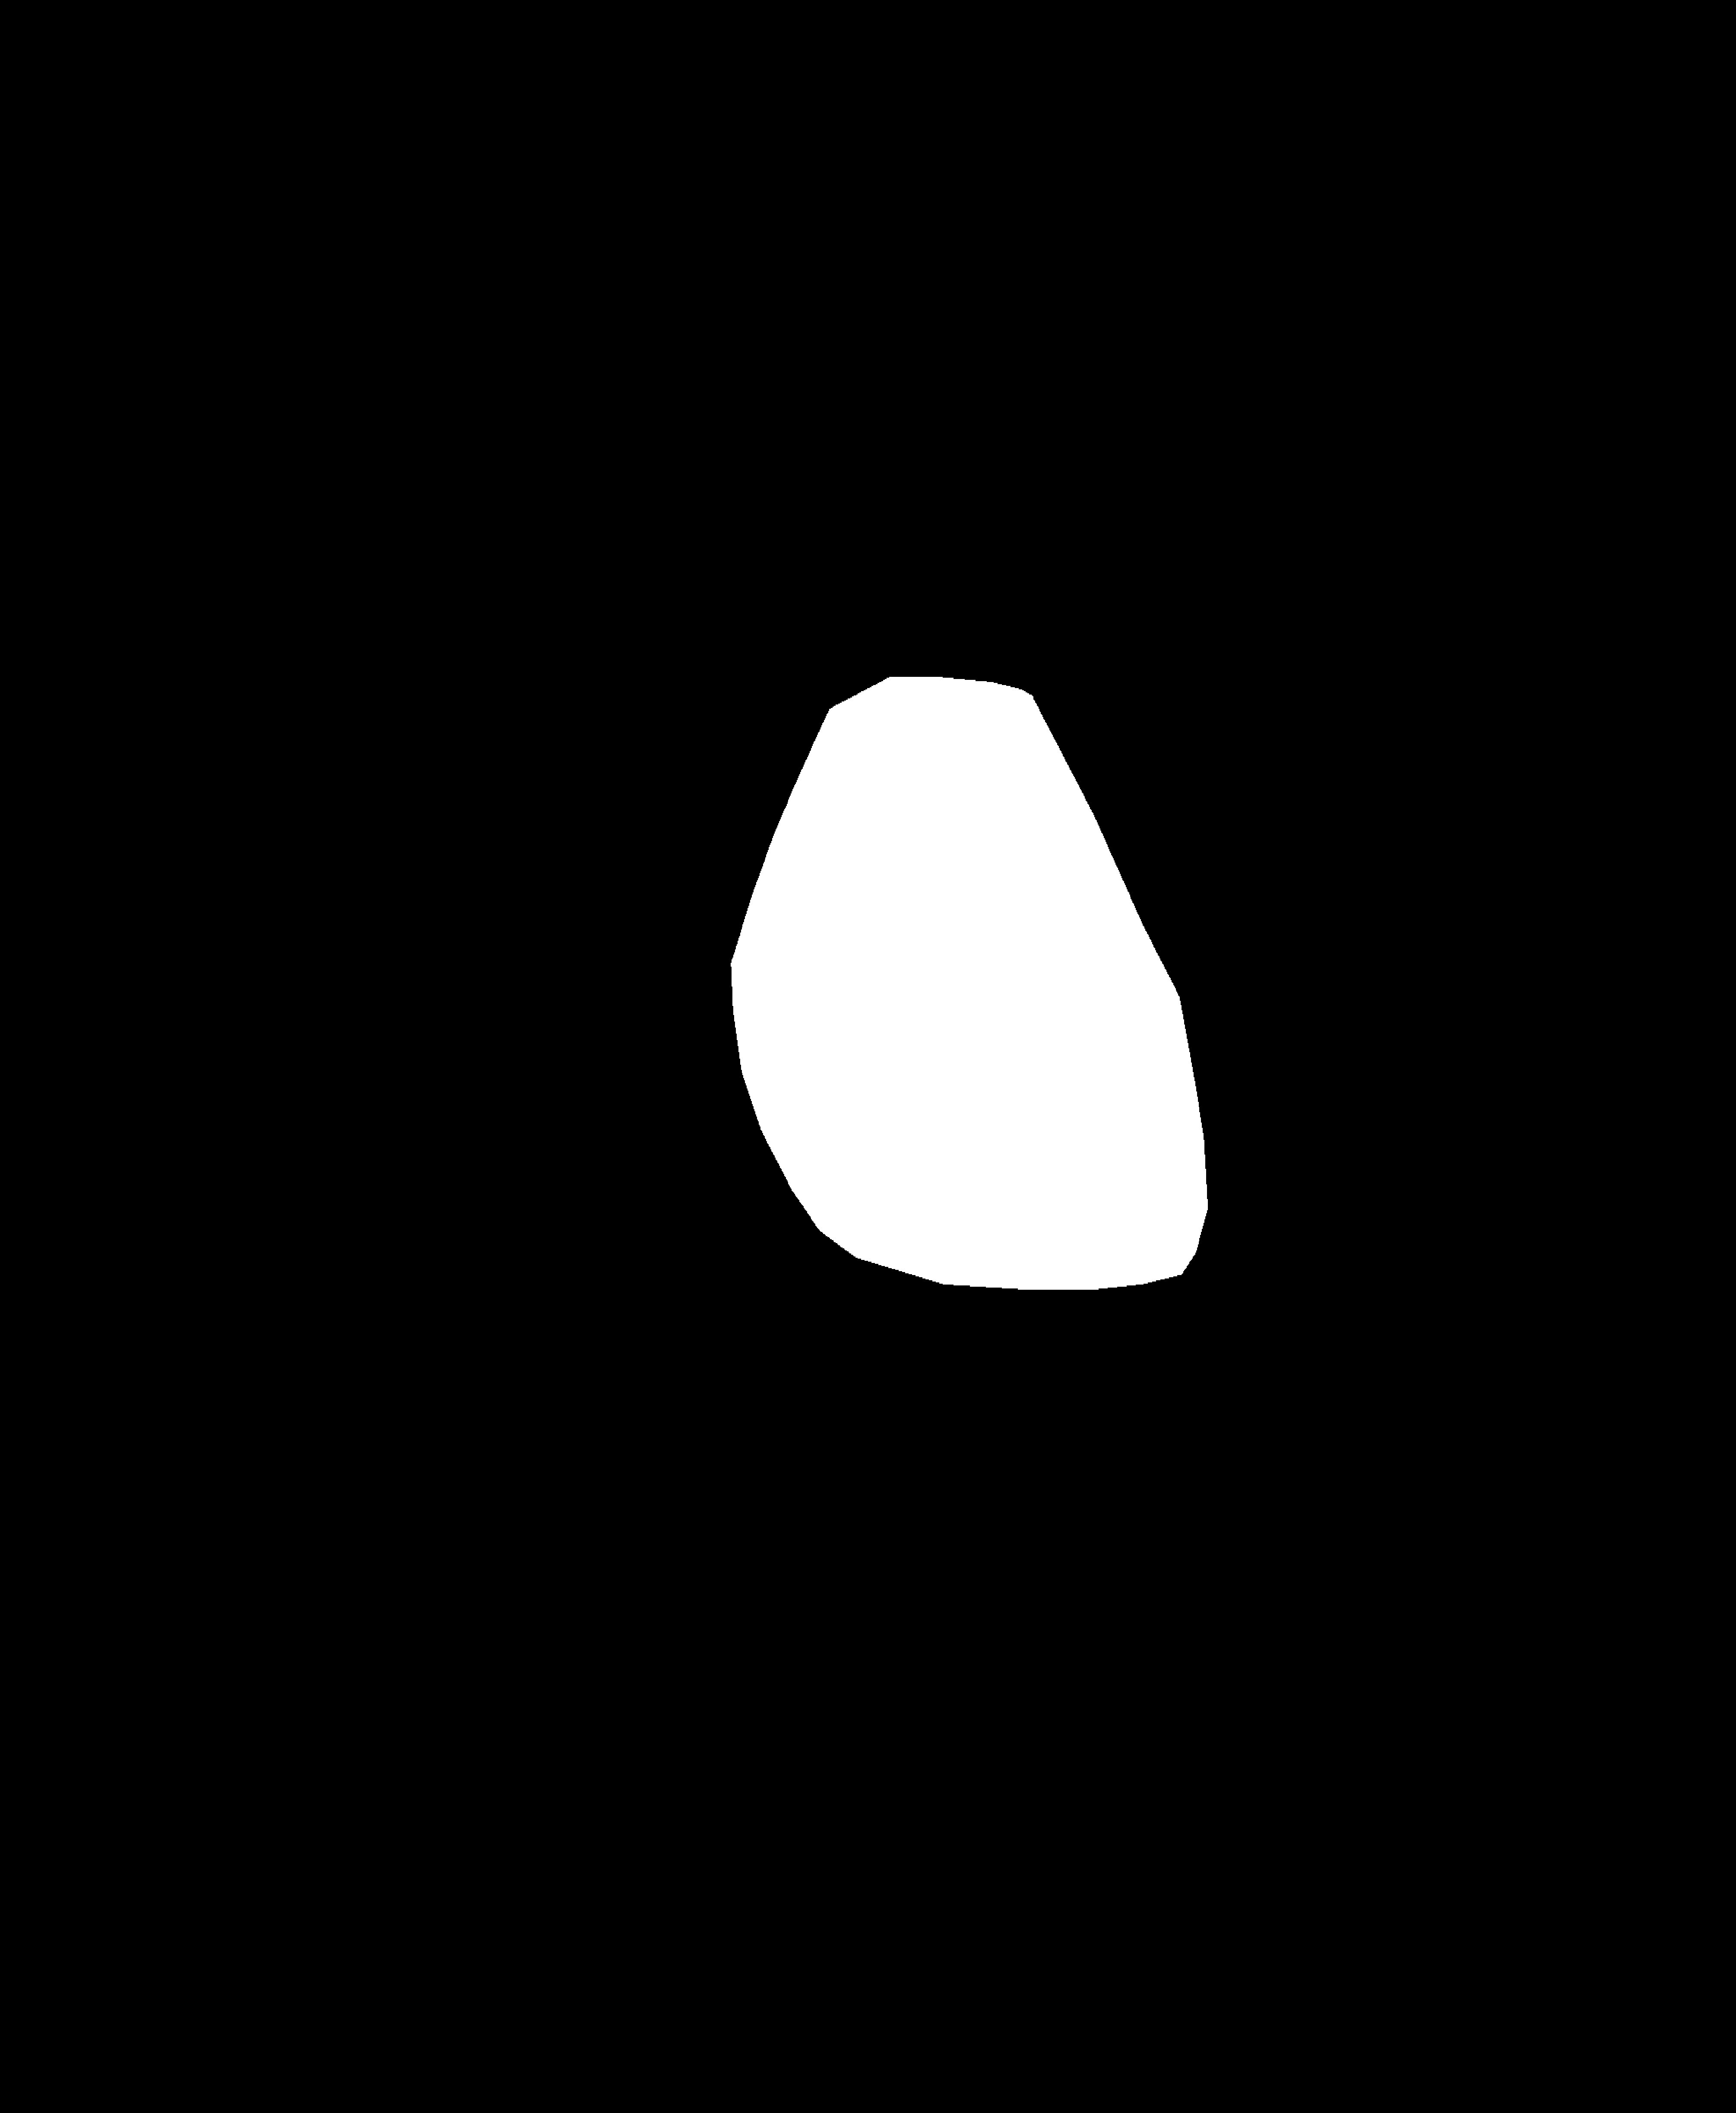heart: (725, 793, 1204, 1290)
left_lung: (304, 147, 829, 1460)
right_lung: (929, 153, 1459, 1423)
